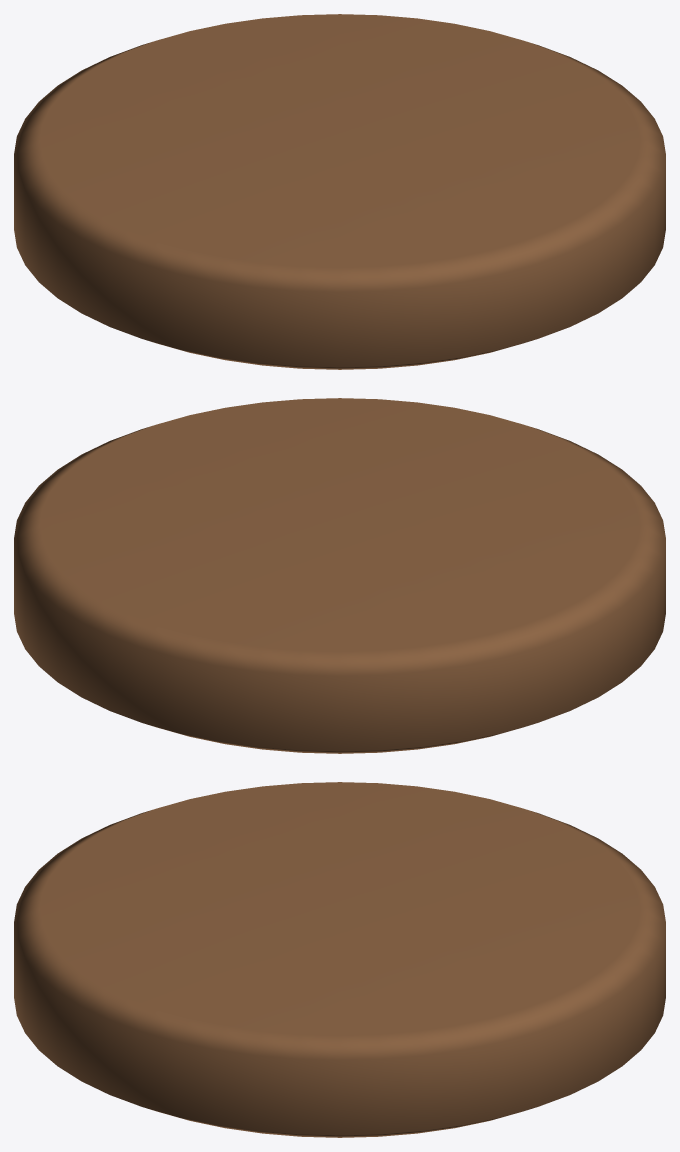
File: city-courthouse-and-records-office-city-courthouse-and-bc0ca941__30976.glb
3 views of the same model, one above another, from view 1: azimuth 30°, elevation 25°; view 2: azimuth 150°, elevation 25°; view 3: azimuth 270°, elevation 25° (orthographic).
Visible parts, largest first — view 1: city-courthouse-and-records-office-sounding-block; view 2: city-courthouse-and-records-office-sounding-block; view 3: city-courthouse-and-records-office-sounding-block.
Boxes of the visible parts, bbox=[...] form: city-courthouse-and-records-office-sounding-block: bbox=[14, 14, 665, 369]; city-courthouse-and-records-office-sounding-block: bbox=[14, 398, 665, 753]; city-courthouse-and-records-office-sounding-block: bbox=[14, 782, 665, 1137].
Size of the model in its own units: 0.26 by 0.045 by 0.26.
